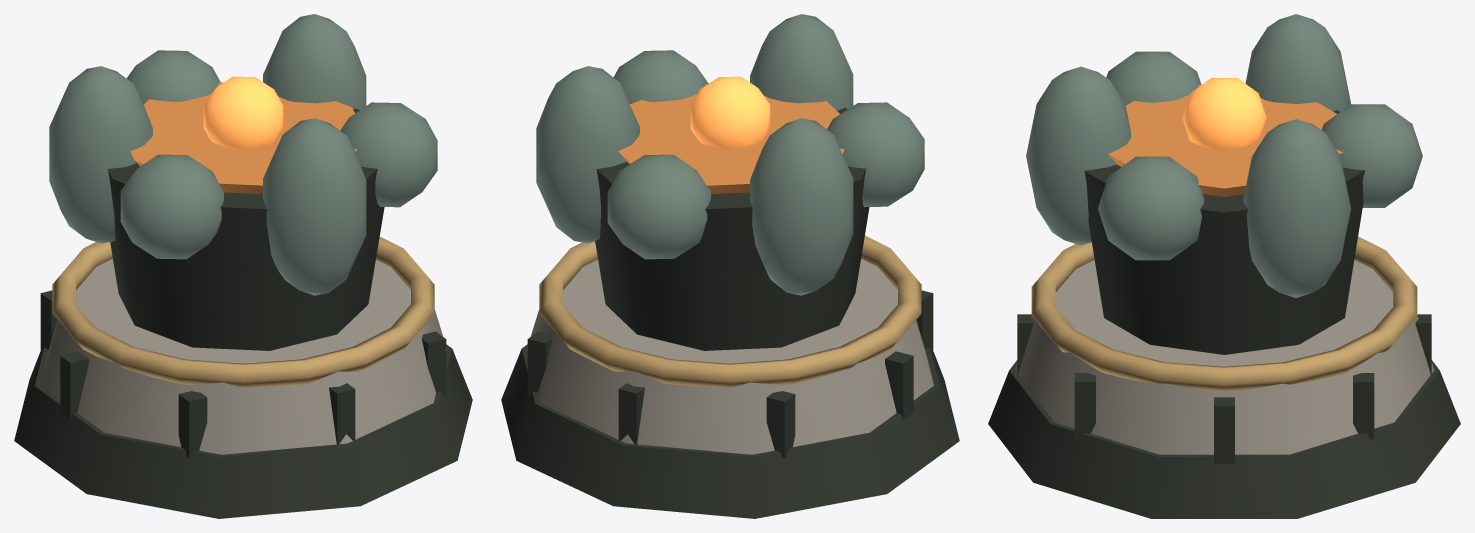
File: tower_meteor_meteorEmber.glb
The picture shows the model from 3 angles, left to right: view 1: azimuth 30°, elevation 25°; view 2: azimuth 150°, elevation 25°; view 3: azimuth 270°, elevation 25°; orthographic projection.
Visible parts, largest first — view 1: stone_1, foot_0, crucible_11, basalt_16, rim_2, basalt_18, basalt_17, lava_12, basalt_14, basalt_15, ember_19, basalt_13 (+5 smaller); view 2: stone_1, foot_0, crucible_11, basalt_18, rim_2, basalt_14, basalt_13, lava_12, basalt_16, basalt_17, ember_19, basalt_15 (+5 smaller); view 3: stone_1, foot_0, crucible_11, basalt_14, rim_2, basalt_16, basalt_15, lava_12, basalt_18, basalt_13, ember_19, basalt_17 (+5 smaller).
Part boxes in pixels (left/top/right/bottom): stone_1: left=40, top=258, right=446, bottom=454; foot_0: left=14, top=344, right=472, bottom=518; crucible_11: left=108, top=108, right=384, bottom=350; basalt_16: left=263, top=118, right=366, bottom=295; rim_2: left=52, top=236, right=434, bottom=388; basalt_18: left=49, top=66, right=152, bottom=243; basalt_17: left=120, top=154, right=223, bottom=259; lava_12: left=130, top=82, right=357, bottom=193; basalt_14: left=263, top=14, right=366, bottom=109; basalt_15: left=340, top=102, right=437, bottom=207; ember_19: left=203, top=76, right=283, bottom=149; basalt_13: left=126, top=50, right=220, bottom=104; stone_1: left=527, top=258, right=933, bottom=454; foot_0: left=501, top=344, right=959, bottom=518; crucible_11: left=595, top=107, right=869, bottom=350; basalt_18: left=750, top=118, right=853, bottom=295; rim_2: left=539, top=235, right=921, bottom=388; basalt_14: left=536, top=66, right=639, bottom=243; basalt_13: left=607, top=154, right=710, bottom=259; lava_12: left=618, top=84, right=844, bottom=193; basalt_16: left=750, top=14, right=853, bottom=110; basalt_17: left=827, top=102, right=924, bottom=207; ember_19: left=690, top=76, right=770, bottom=149; basalt_15: left=613, top=50, right=708, bottom=103; stone_1: left=1014, top=260, right=1434, bottom=454; foot_0: left=988, top=360, right=1460, bottom=518; crucible_11: left=1084, top=110, right=1365, bottom=354; basalt_14: left=1243, top=119, right=1350, bottom=297; rim_2: left=1031, top=236, right=1417, bottom=391; basalt_16: left=1026, top=66, right=1130, bottom=245; basalt_15: left=1098, top=156, right=1204, bottom=260; lava_12: left=1108, top=84, right=1343, bottom=196; basalt_18: left=1245, top=14, right=1350, bottom=111; basalt_13: left=1322, top=104, right=1422, bottom=207; ember_19: left=1182, top=78, right=1266, bottom=150; basalt_17: left=1106, top=51, right=1201, bottom=105.
Size of the model in its own units: 0.5326 by 0.467 by 0.56.
